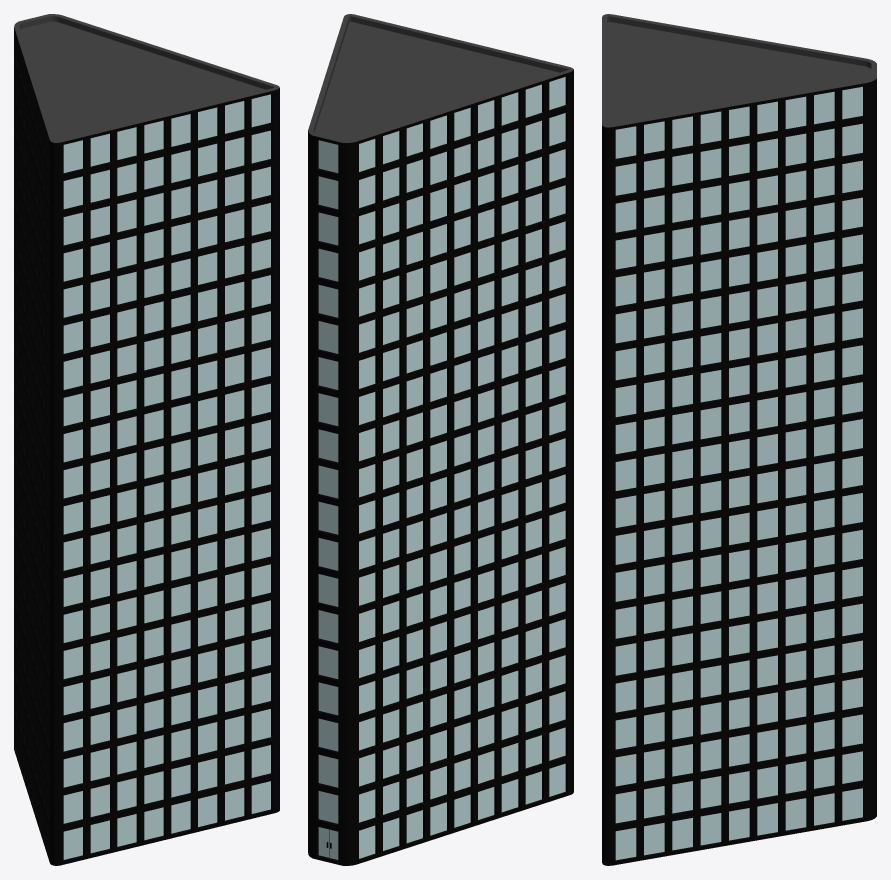
The model's file is Building4.glb.
3 renders of one model, left to right at view 1: azimuth 30°, elevation 25°; view 2: azimuth 150°, elevation 25°; view 3: azimuth 270°, elevation 25°, orthographic. The views are drawn at different scales.
Parts seen in each view (by area): view 1: Cube.003; view 2: Cube.003; view 3: Cube.003.
Boxes of the visible parts, <box> form: Cube.003: <box>14,14,279,865</box>; Cube.003: <box>308,14,573,865</box>; Cube.003: <box>602,14,876,865</box>.
Size of the model in its own units: 3.9 by 11.82 by 3.99.
